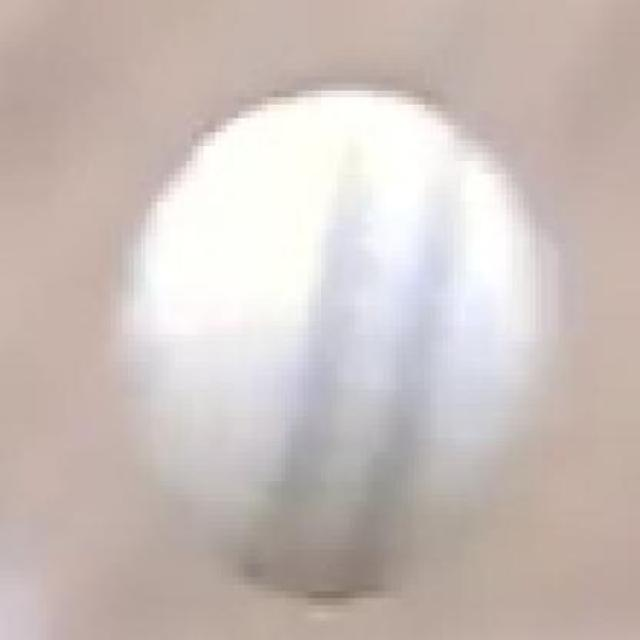Cricket ball: (116, 82, 568, 608)
